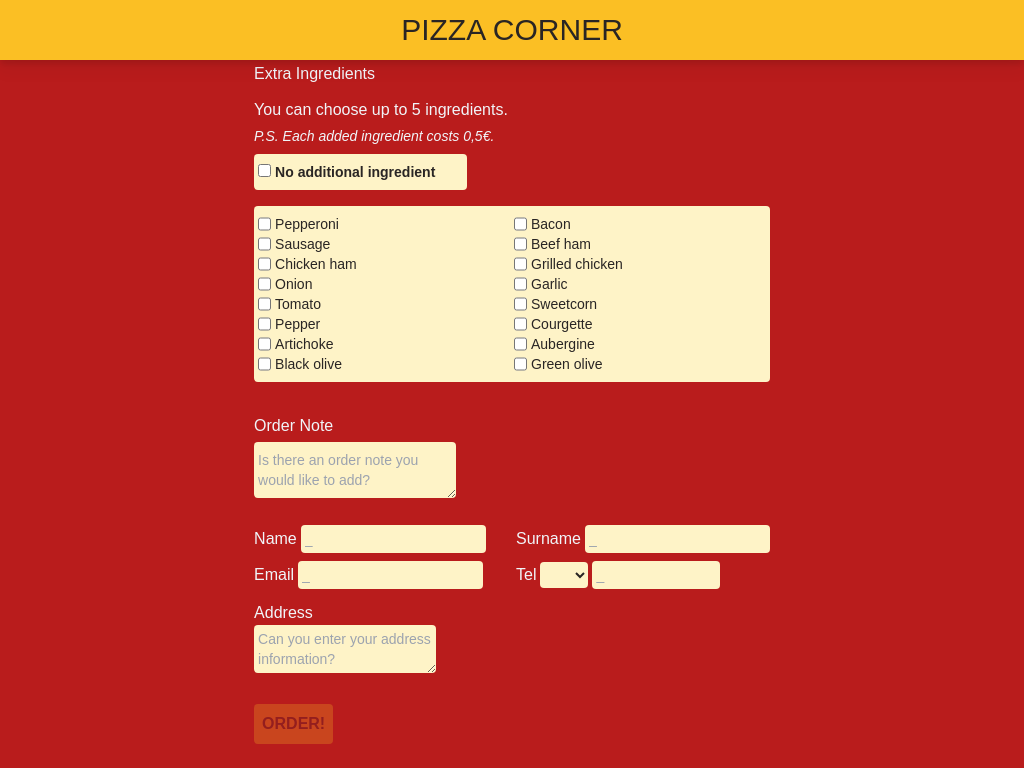
Test › Form alanında name input kısmı için error mesajı çalışıyor mu?
(page scrolled)
Step 1. Type "Kagan" into the field with test id "firstname" → (394, 539), box [301,525,486,553]
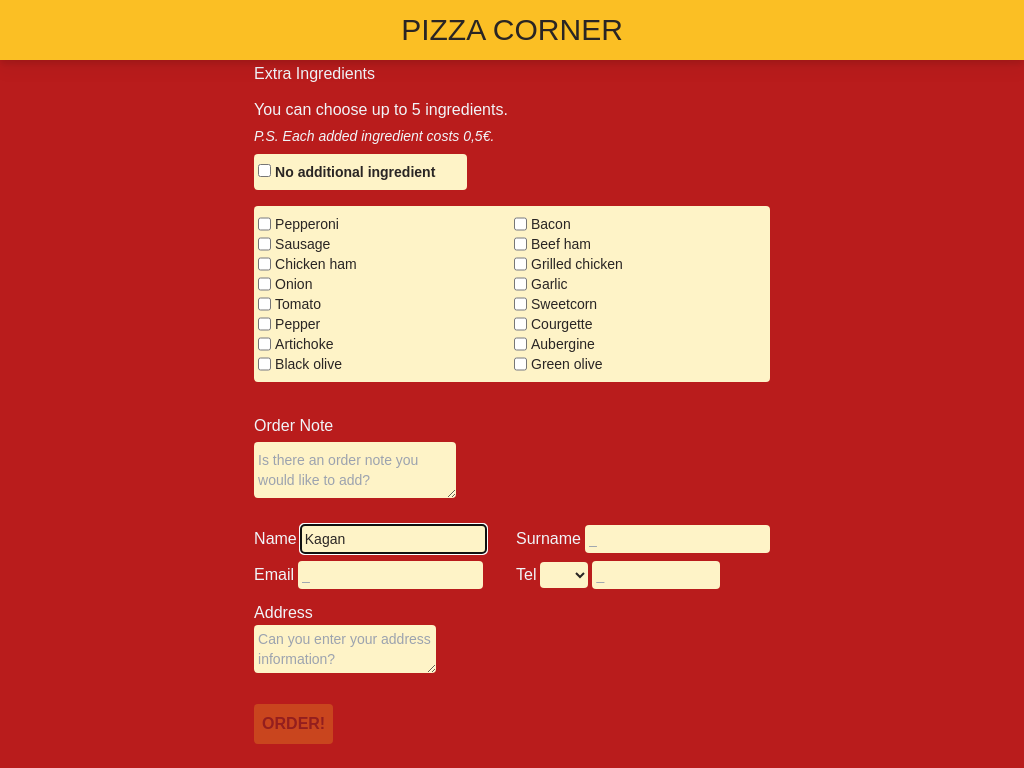
Step 2. Clear the field with test id "firstname" → (394, 539), box [301,525,486,553]
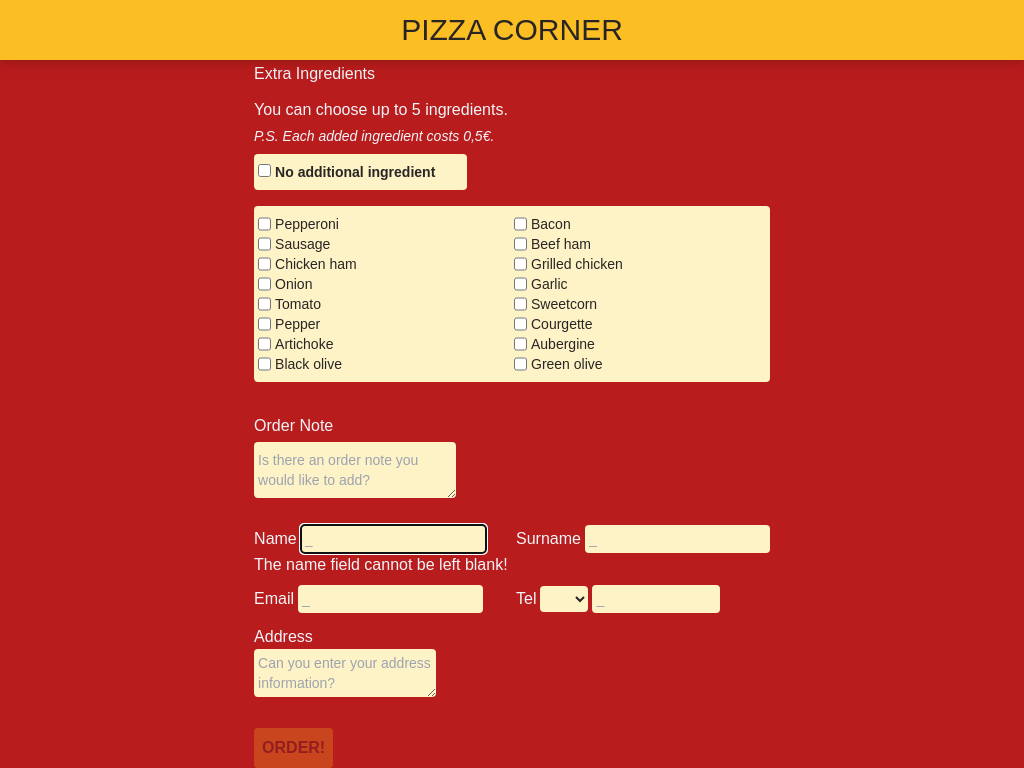
Now the text "The name field cannot be left blank!" is shown, box [254,553,508,577]
